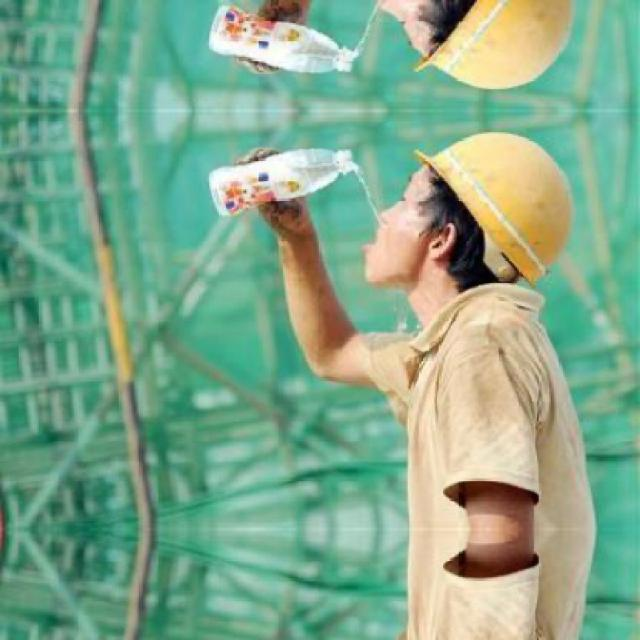con casco: (345, 112, 549, 406)
